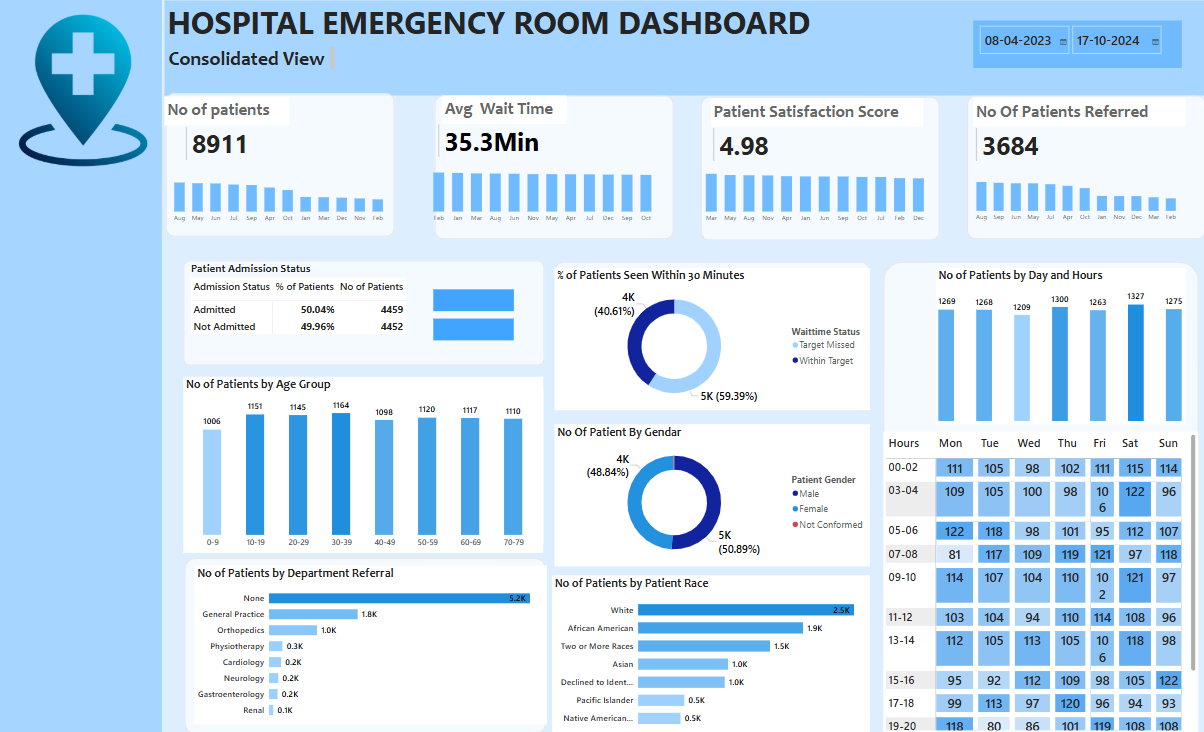

This screenshot's page, from the dashboard's own definition file:
{"tool":"powerbi","page":{"name":"Consolidated View","canvas":[2300,1400],"ordinal":1},"visuals":[{"type":"shape","box":[2.4,0,311.5,1400.5],"z":0},{"type":"shape","box":[318.6,4.8,1980.6,180.7],"z":1000},{"type":"textbox","box":[318.6,0,1293.5,104.6],"z":2000},{"type":"textbox","box":[321,88,325.7,54.7],"z":3000},{"type":"shape","box":[321,180.7,435.1,273.4],"z":4000},{"type":"slicer","fields":{"Values":["Date Table.Date"]},"box":[1857,42.8,397.1,90.4],"z":5000},{"type":"multiRowCard","fields":{"Values":["Hospital ER_Data.No of Patients"]},"box":[354.3,240.2,130.8,78.5],"z":7000},{"type":"textbox","box":[318.6,187.8,237.8,54.7],"z":8000},{"type":"columnChart","fields":{"Y":["Hospital ER_Data.No of Patients"],"Category":["Date Table.Month Name"]},"box":[319.1,311,435.1,125],"z":9000},{"type":"shape","box":[832.2,185.5,455,273.4],"z":11000},{"type":"shape","box":[1338.7,187.8,454.1,273.4],"z":12000},{"type":"shape","box":[1845.1,185.5,454.1,273.4],"z":13000},{"type":"columnChart","fields":{"Y":["Avg(Hospital ER_Data.Patient Waittime)"],"Category":["Date Table.Month Name"]},"box":[811.3,311,454.1,125],"z":14000},{"type":"multiRowCard","fields":{"Values":["Hospital ER_Data.Avg Wait Time"]},"box":[834.6,235.4,225.9,73],"z":15000},{"type":"textbox","box":[846.5,185.5,237.8,54.7],"z":16000},{"type":"textbox","box":[1357.7,190.2,404.2,54.7],"z":17000},{"type":"multiRowCard","fields":{"Values":["Hospital ER_Data.Satisfaction Score"]},"box":[1357.7,242.5,225.9,73.7],"z":18000},{"type":"columnChart","fields":{"Y":["Hospital ER_Data.Satisfaction Score"],"Category":["Date Table.Month Name"]},"box":[1329.6,311,454.1,125],"z":19000},{"type":"textbox","box":[1856.5,190.7,404.2,54.7],"z":20000},{"type":"multiRowCard","fields":{"Values":["Hospital ER_Data.No Of Patient Referred"]},"box":[1856.5,243,225.9,73.7],"z":21000},{"type":"columnChart","fields":{"Y":["Hospital ER_Data.No Of Patient Referred"],"Category":["Date Table.Month Name"]},"box":[1845.1,311.5,416.1,123.6],"z":22000},{"type":"shape","box":[354.3,499.3,687.2,199.7],"z":23000},{"type":"pivotTable","title":"Patient Admission Status","fields":{"Rows":["Hospital ER_Data.Admission Status"],"Values":["Hospital ER_Data.No of Patients","Hospital ER_Data.No of Patients1"]},"box":[363.8,501.7,468.4,199.7],"z":24000},{"type":"barChart","fields":{"Category":["Hospital ER_Data.Admission Status"],"Y":["Hospital ER_Data.No of Patients"]},"box":[825.1,513.6,216.4,173.6],"z":25000},{"type":"shape","box":[355,720,687.5,335],"z":26000},{"type":"clusteredColumnChart","fields":{"Category":["Hospital ER_Data.Age Group"],"Y":["Hospital ER_Data.No of Patients"]},"box":[355,720,685,335],"z":27000},{"type":"shape","box":[357.5,1065,687.5,335],"z":28000},{"type":"clusteredBarChart","fields":{"Category":["Hospital ER_Data.Department Referral"],"Y":["Hospital ER_Data.No of Patients"]},"box":[375,1080,670,302.5],"z":29000},{"type":"shape","box":[1060,502.5,600,270],"z":30000},{"type":"donutChart","title":"% of Patients Seen Within 30 Minutes","fields":{"Category":["Hospital ER_Data.Waittime Status"],"Y":["Hospital ER_Data.No of Patients"]},"box":[1060,512.5,600,270],"z":31000},{"type":"donutChart","title":"No Of Patient By Gendar","fields":{"Y":["Hospital ER_Data.No of Patients"],"Category":["Hospital ER_Data.Patient Gender"]},"box":[1060,810,600,270],"z":32000},{"type":"donutChart","title":"No Of Patient By Gendar","fields":{"Y":["Hospital ER_Data.No of Patients"],"Category":["Hospital ER_Data.Patient Gender"]},"box":[1060,1097.5,600,270],"z":33000},{"type":"clusteredBarChart","fields":{"Y":["Hospital ER_Data.No of Patients"],"Category":["Hospital ER_Data.Patient Race"]},"box":[1055,1097.5,605,302.5],"z":34000},{"type":"shape","box":[1685,502.5,600,897.5],"z":35000},{"type":"pivotTable","fields":{"Rows":["Hospital ER_Data.Waittime Interval"],"Columns":["Date Table.Day Name"],"Values":["Hospital ER_Data.No of Patients"]},"box":[1685.8,825.1,599.2,573],"z":36000},{"type":"columnChart","title":"No of Patients by Day and Hours","fields":{"Category":["Date Table.Day Name"],"Y":["Hospital ER_Data.No of Patients"]},"box":[1785.7,513.6,475.5,297.2],"z":37000},{"type":"image","box":[14.3,26.2,299.6,299.6],"z":38000}]}

Visuals, with their boxes in screenshot pixels (x1, y1, x2, y2), scaled from the page's 2300x1400 canvas onto the 1204x732 screenshot:
shape: [1,0,164,731]
shape: [167,3,1203,97]
textbox: [167,0,844,55]
textbox: [168,46,339,75]
shape: [168,94,396,237]
slicer - Date Table.Date: [972,22,1180,70]
multiRowCard - Hospital ER_Data.No of Patients: [185,126,254,167]
textbox: [167,98,291,127]
columnChart - Hospital ER_Data.No of Patients x Date Table.Month Name: [167,163,395,228]
shape: [436,97,674,240]
shape: [701,98,938,241]
shape: [966,97,1203,240]
columnChart - Avg(Hospital ER_Data.Patient Waittime) x Date Table.Month Name: [425,163,662,228]
multiRowCard - Hospital ER_Data.Avg Wait Time: [437,123,555,161]
textbox: [443,97,568,126]
textbox: [711,99,922,128]
multiRowCard - Hospital ER_Data.Satisfaction Score: [711,127,829,165]
columnChart - Hospital ER_Data.Satisfaction Score x Date Table.Month Name: [696,163,934,228]
textbox: [972,100,1183,128]
multiRowCard - Hospital ER_Data.No Of Patient Referred: [972,127,1090,166]
columnChart - Hospital ER_Data.No Of Patient Referred x Date Table.Month Name: [966,163,1184,227]
shape: [185,261,545,365]
"Patient Admission Status" pivotTable: [190,262,436,367]
barChart - Hospital ER_Data.Admission Status x Hospital ER_Data.No of Patients: [432,269,545,359]
shape: [186,376,546,552]
clusteredColumnChart - Hospital ER_Data.Age Group x Hospital ER_Data.No of Patients: [186,376,544,552]
shape: [187,557,547,731]
clusteredBarChart - Hospital ER_Data.Department Referral x Hospital ER_Data.No of Patients: [196,565,547,723]
shape: [555,263,869,404]
"% of Patients Seen Within 30 Minutes" donutChart: [555,268,869,409]
"No Of Patient By Gendar" donutChart: [555,424,869,565]
"No Of Patient By Gendar" donutChart: [555,574,869,715]
clusteredBarChart - Hospital ER_Data.No of Patients x Hospital ER_Data.Patient Race: [552,574,869,731]
shape: [882,263,1196,731]
pivotTable - Hospital ER_Data.Waittime Interval x Date Table.Day Name: [882,431,1196,731]
"No of Patients by Day and Hours" columnChart: [935,269,1184,424]
image: [7,14,164,170]
